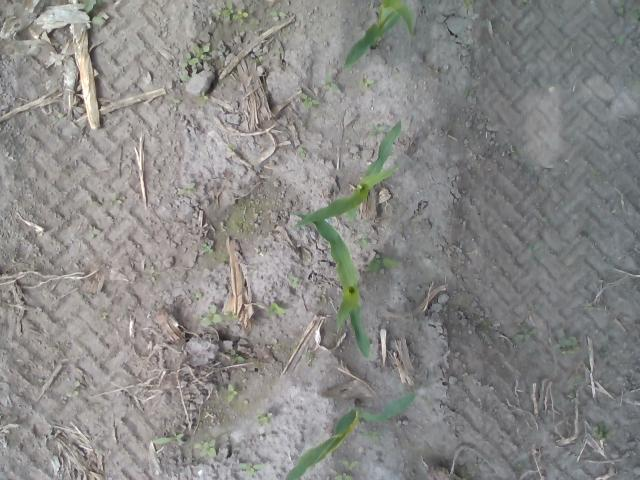Maize: (288, 209, 375, 362), (294, 117, 402, 228), (285, 392, 420, 480), (344, 0, 414, 69)
Weeds: (214, 0, 256, 31), (180, 44, 208, 79), (200, 304, 235, 328), (612, 0, 640, 20), (368, 254, 399, 272), (192, 440, 218, 458), (152, 431, 185, 445), (592, 422, 616, 440), (511, 328, 536, 344), (266, 301, 288, 317), (82, 0, 106, 14), (559, 335, 578, 352), (366, 122, 386, 138), (321, 74, 338, 92), (238, 462, 262, 474), (228, 350, 245, 365), (338, 458, 361, 469), (302, 94, 320, 108), (226, 383, 238, 402), (270, 7, 288, 18), (90, 13, 104, 27), (609, 34, 625, 46), (357, 78, 376, 88), (196, 91, 209, 105), (110, 195, 124, 207), (290, 274, 304, 286), (214, 251, 228, 262), (66, 387, 80, 398), (200, 242, 214, 253), (333, 472, 352, 480), (296, 144, 306, 158), (364, 430, 378, 439), (257, 415, 269, 424), (358, 238, 368, 248), (464, 0, 474, 9), (184, 186, 192, 192)
